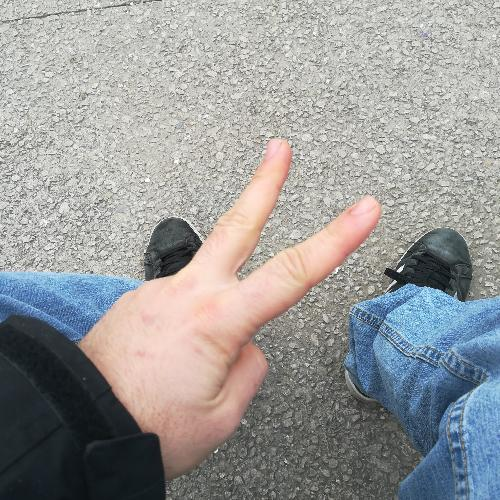scissors: (73, 128, 390, 481)
